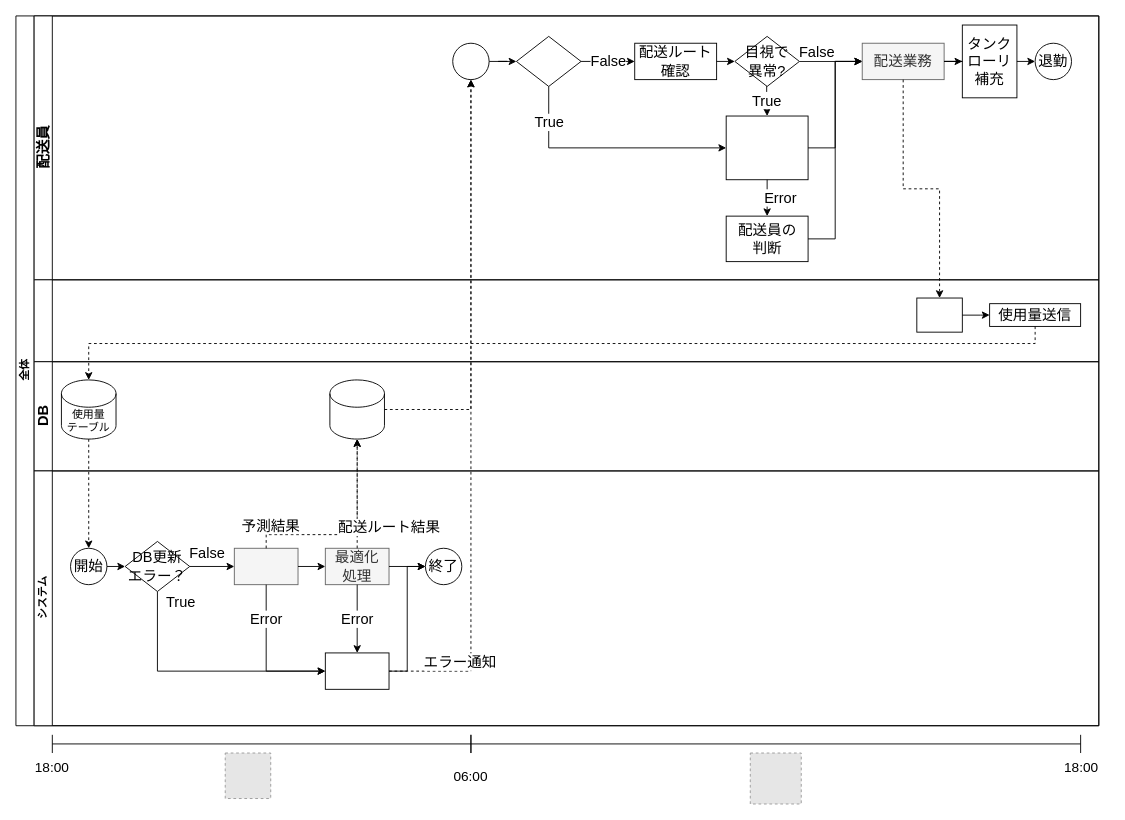
The diagram is 1125 pixels wide and 820 high, and some of its shapes have lost their labels. Grey dashed boxes stand in for pictures. The box of each missing label's shape, as (x1, y1, x2, y2) in pixels:
GS: (33, 279, 1099, 362)
エラー 通知: (324, 652, 389, 689)
エラー 通知?: (516, 35, 581, 86)
タンク補充: (916, 297, 962, 332)
予測処理: (233, 547, 298, 585)
出力結果テーブル: (329, 379, 384, 439)
出勤: (452, 42, 489, 80)
前回の 配送ルート 利用: (725, 115, 808, 180)
